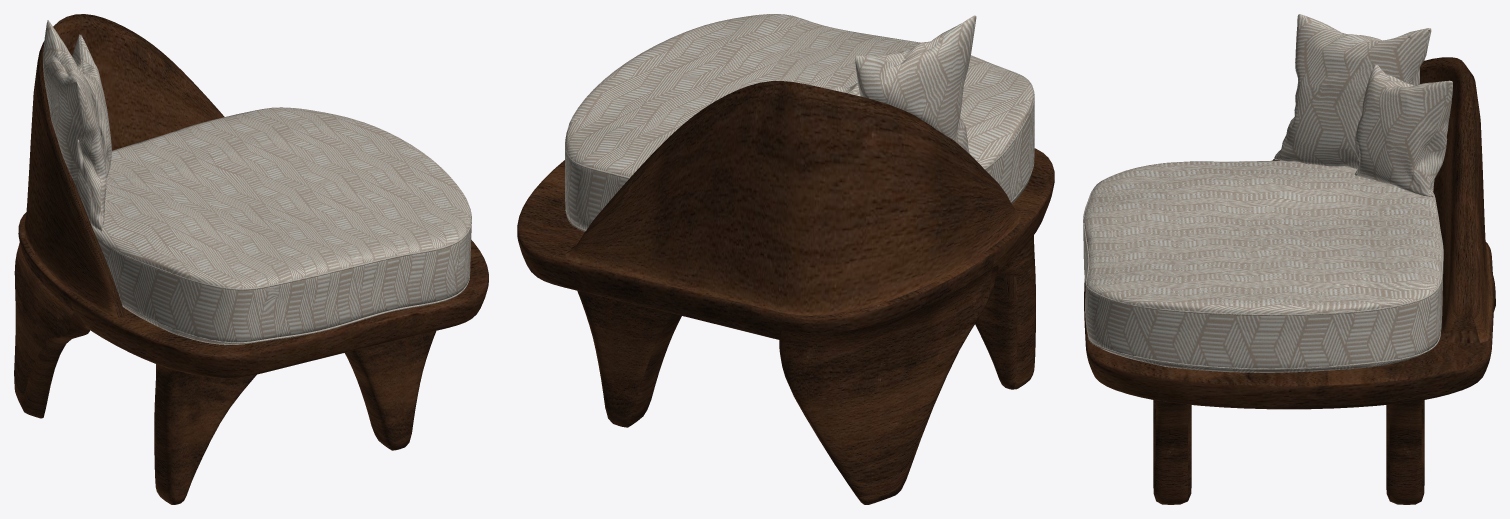
The picture shows the model from 3 angles, left to right: view 1: azimuth 30°, elevation 25°; view 2: azimuth 150°, elevation 25°; view 3: azimuth 270°, elevation 25°; orthographic projection. The views are drawn at different scales.
Parts seen in each view (by area): view 1: lossless same-material batches; view 2: lossless same-material batches; view 3: lossless same-material batches.
Part boxes in pixels (x1,y1,x2,y2): lossless same-material batches: [14, 14, 488, 504]; lossless same-material batches: [517, 14, 1054, 504]; lossless same-material batches: [1083, 14, 1495, 504].
Size of the model in its own units: 1 by 1 by 1.
Materials: 3 (3 with a texture image).
